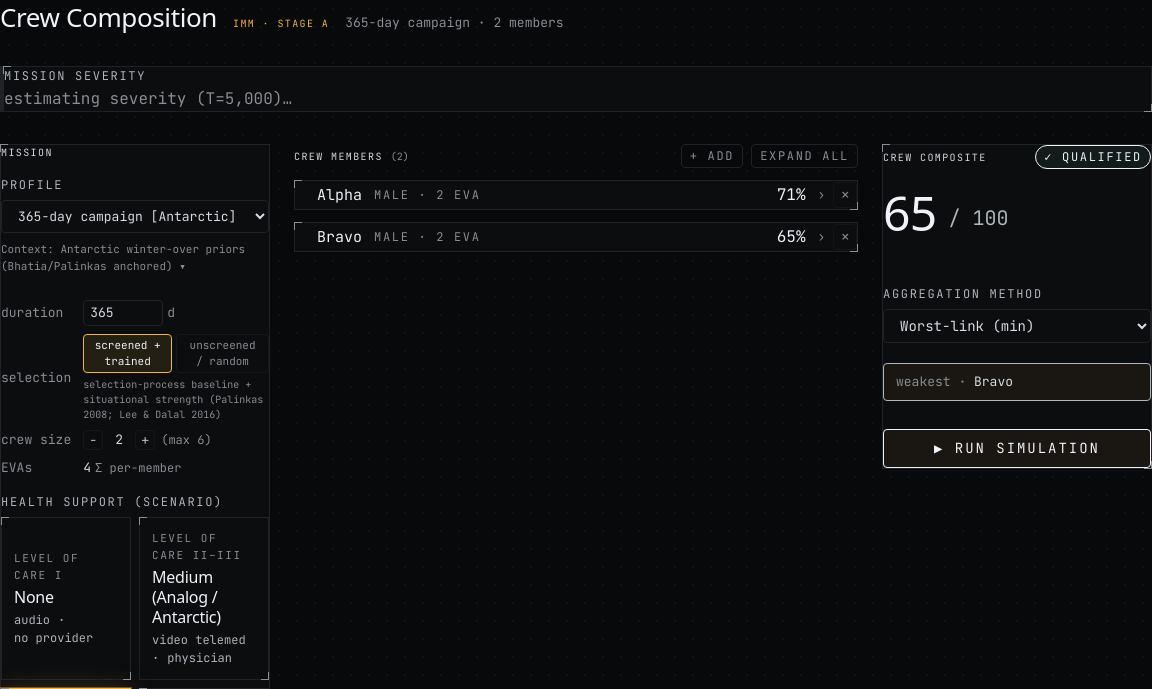
Scenario: CrewComposition · I6 analog Bayesian MCMC posterior › fetch rejection → api-error: I6 panel shows the API-unreachable note
The image size is (1152, 689).
What coordinates should you click on to do the following:
click the button with aria-label "run IMM Monte Carlo simulation"
I would click on:
 (1017, 448)
Its box is [883,428,1151,468].
(page scrolled)
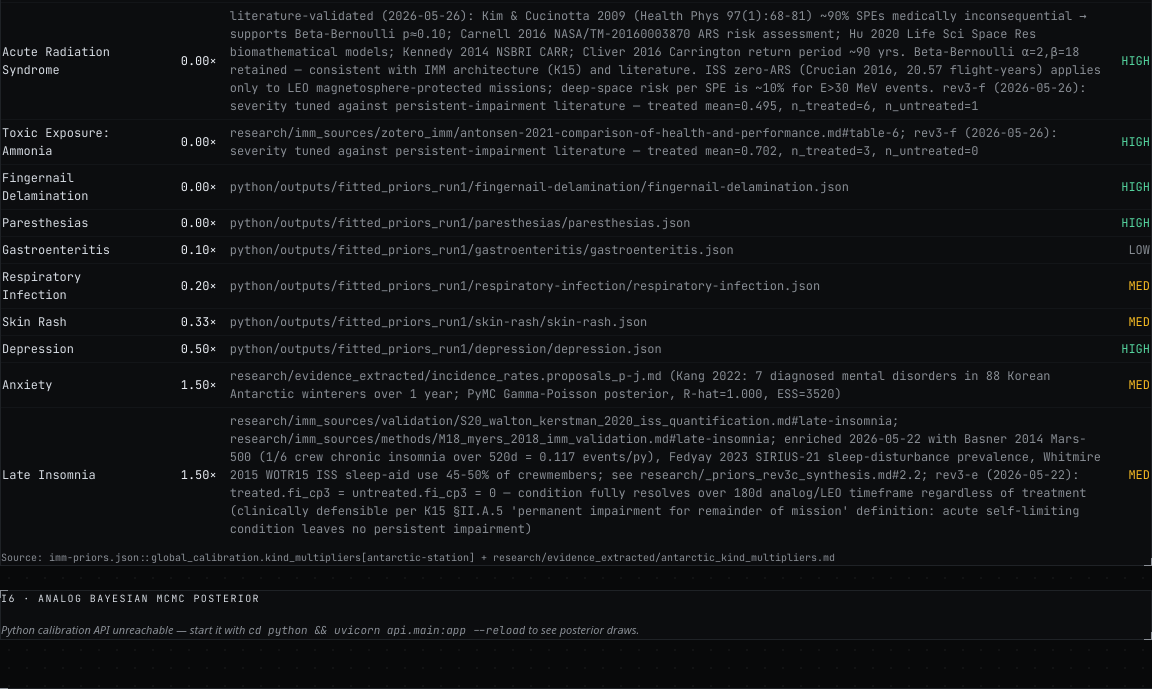
Expected: the element with test id "imm-i6-posterior" is shown, [0,590,1151,640]
Result: the text "calibration API unreachable" is shown at [1,622,245,637]
